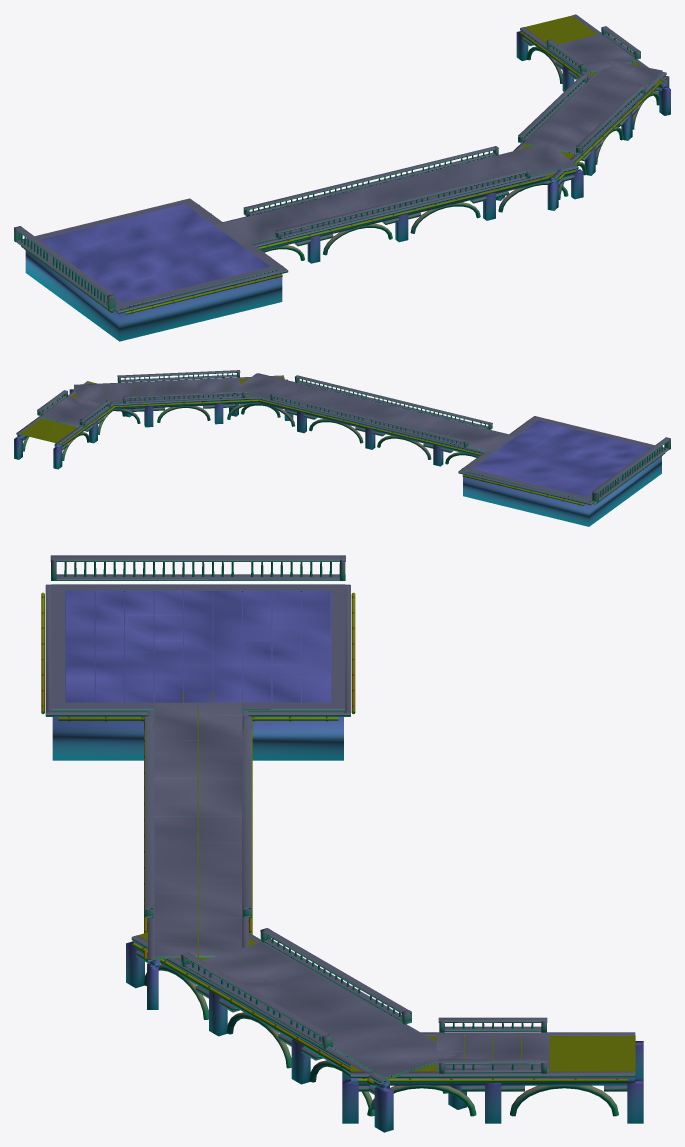
File: sunken_vey_walks_w.glb
3 views of the same model, one above another, from view 1: azimuth 30°, elevation 25°; view 2: azimuth 150°, elevation 25°; view 3: azimuth 270°, elevation 25° (orthographic). The views are drawn at different scales.
Visible parts, largest first — view 1: sunken_vey_walks_w; view 2: sunken_vey_walks_w; view 3: sunken_vey_walks_w.
Part boxes in pixels (box(x1,y1,x2,y2)): sunken_vey_walks_w: box(14, 14, 670, 341); sunken_vey_walks_w: box(14, 370, 670, 526); sunken_vey_walks_w: box(41, 555, 643, 1132).
Size of what is drawn, in the model's own units: 48.69 by 3.32 by 24.53.
